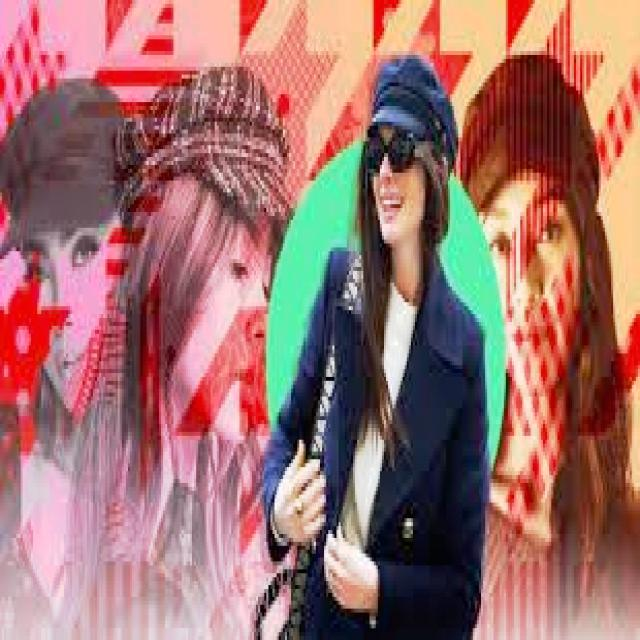TOPI: (114, 59, 295, 224), (450, 39, 609, 220), (0, 63, 132, 255), (362, 43, 461, 189)
